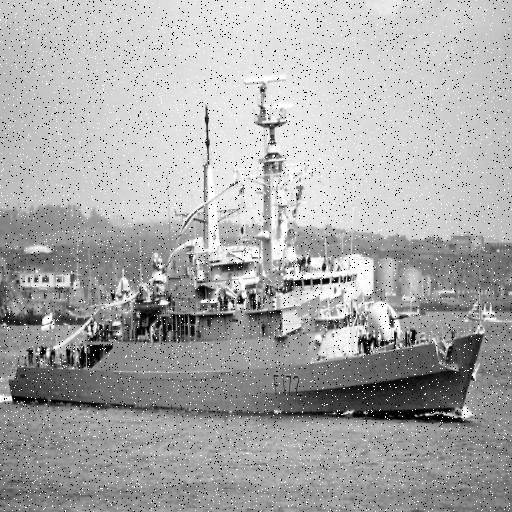Fragata: (6, 66, 488, 423)
